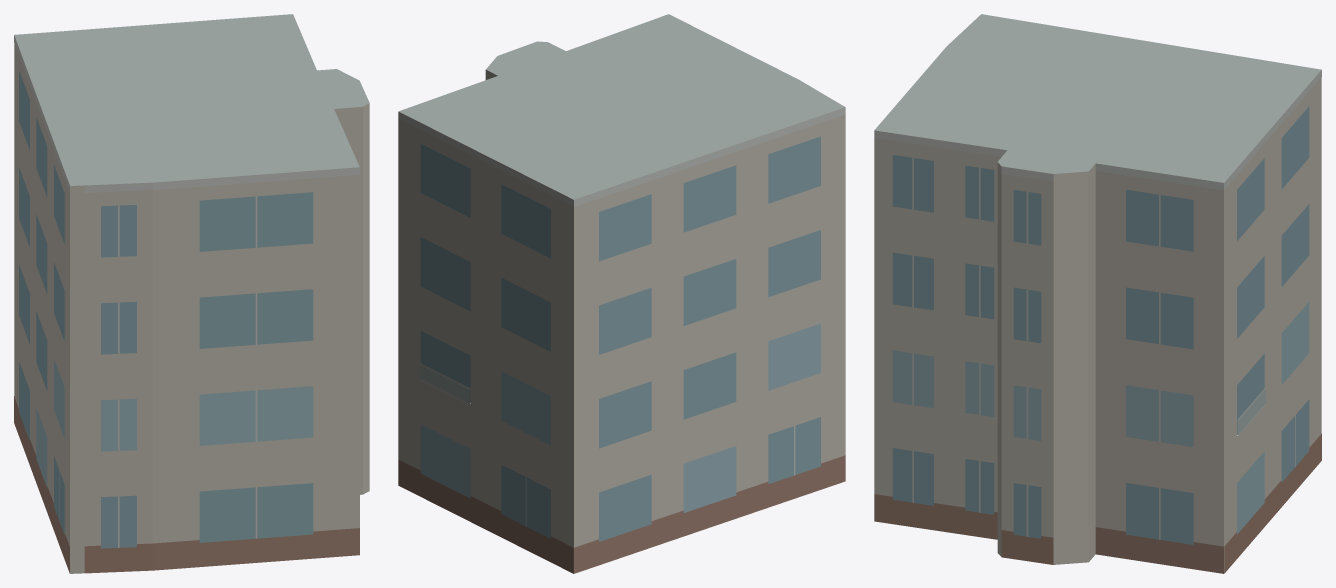
File: survey-upis-32556709.glb
3 renders of one model, left to right at view 1: azimuth 30°, elevation 25°; view 2: azimuth 150°, elevation 25°; view 3: azimuth 270°, elevation 25°, orthographic. The views are drawn at different scales.
Parts seen in each view (by area): view 1: survey-upis-32556709.tmp; view 2: survey-upis-32556709.tmp; view 3: survey-upis-32556709.tmp.
Boxes of the visible parts, bbox=[...] form: survey-upis-32556709.tmp: bbox=[14, 14, 369, 573]; survey-upis-32556709.tmp: bbox=[398, 14, 845, 573]; survey-upis-32556709.tmp: bbox=[874, 14, 1321, 573].
Bounding box in the file's own units: 11.78 × 12.7 × 13.19.
